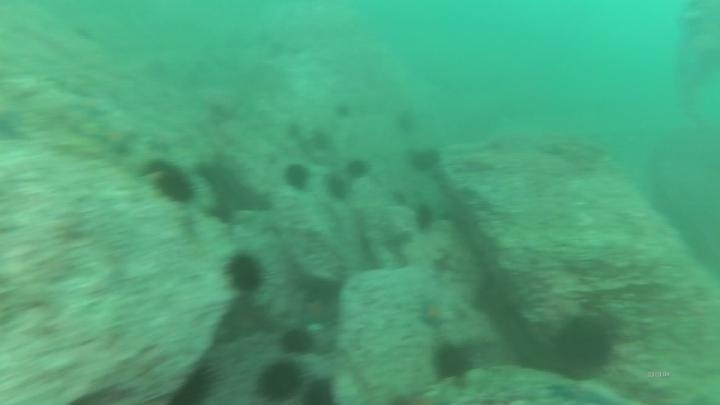echinus: (549, 312, 620, 378), (222, 249, 268, 297), (254, 359, 304, 403), (169, 362, 218, 405), (430, 341, 475, 383), (277, 325, 316, 358), (158, 170, 196, 202), (407, 145, 443, 176), (300, 376, 338, 405), (280, 161, 313, 194), (411, 201, 438, 236), (323, 173, 352, 203), (391, 106, 420, 136), (343, 155, 372, 182), (308, 127, 335, 154), (146, 158, 178, 176), (287, 121, 302, 138), (394, 192, 409, 208), (334, 105, 352, 118)
starfish: (545, 377, 629, 404), (90, 120, 141, 158), (414, 295, 455, 332), (296, 295, 338, 329), (67, 93, 114, 123), (1, 105, 30, 144)
